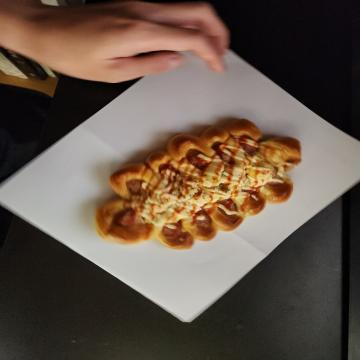pizza_bread: (120, 58, 253, 269)
